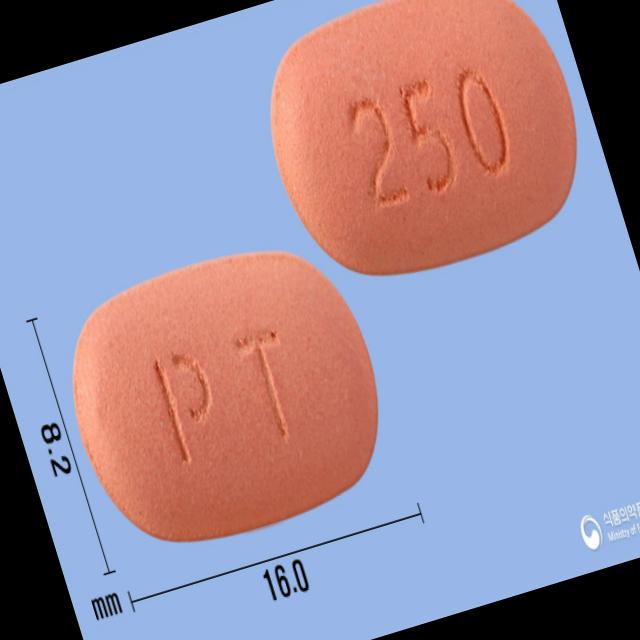Urolevo Tab: (40, 220, 408, 570), (240, 0, 606, 305)
